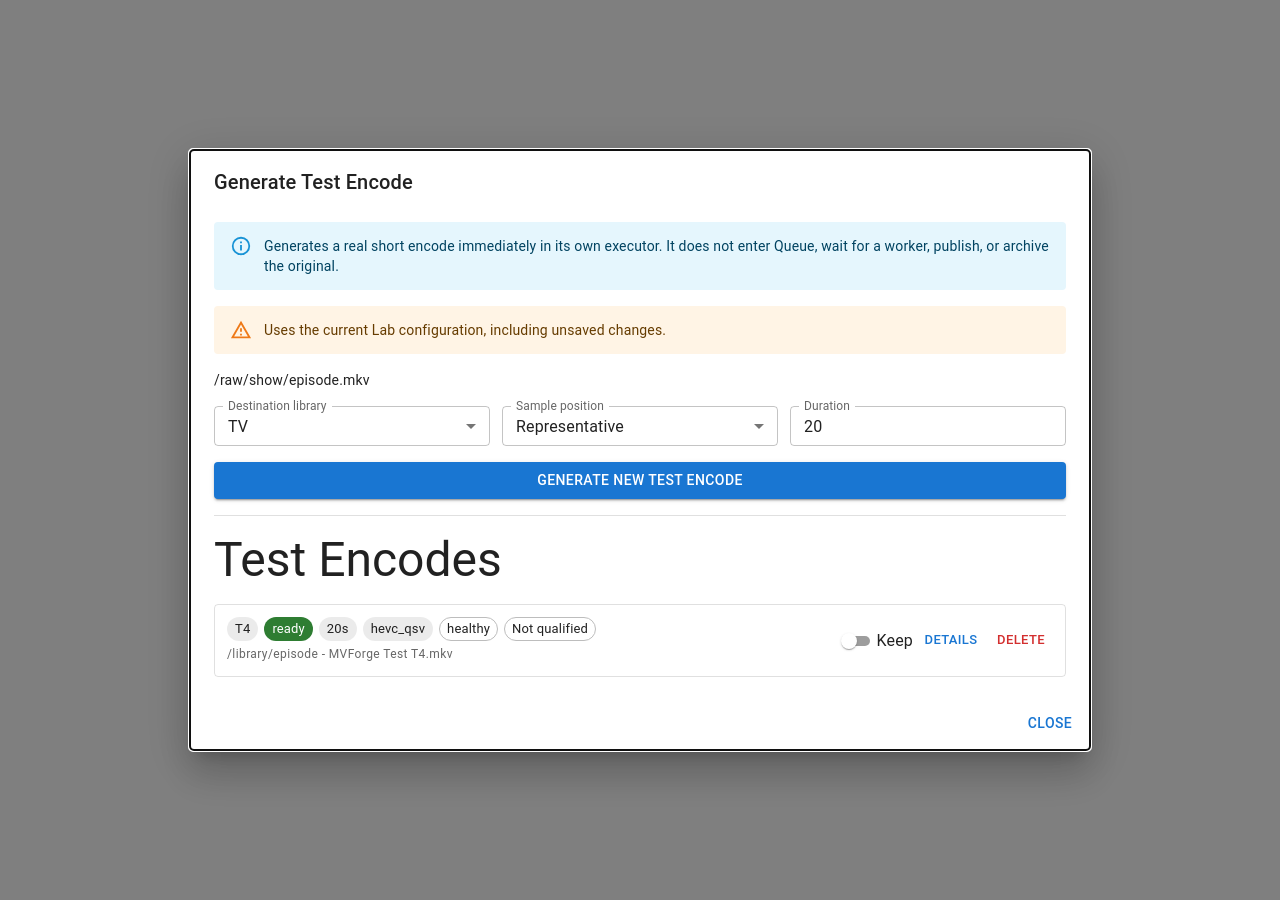
it: TestEncodeDialog › labels unsaved Lab configuration and exposes lifecycle actions for prior tests
Expected: the text "Uses the current Lab configuration, including unsaved changes" is shown, [264,322,666,338]
Expected: the text "/library/episode - MVForge Test T4.mkv" is shown, [227,647,453,661]
What coordinates should you click on to do the following:
click the button "Details"
I would click on:
 (951, 641)
Its box is [919,625,983,656].
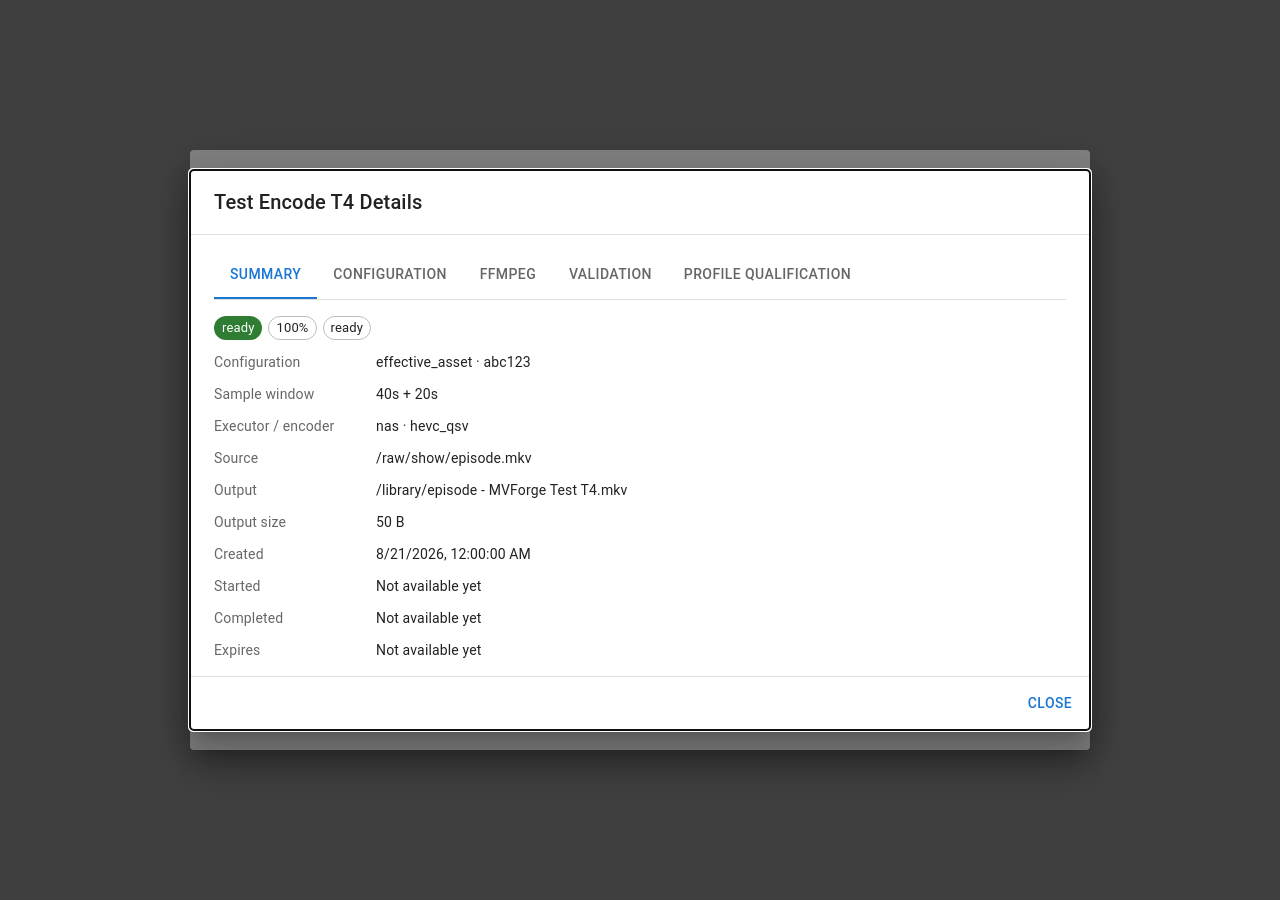
Expected: the field showing "ffmpeg -ss 40" is not shown
Expected: the panel named "summary" is shown, [214,316,628,658]
What coordinates should you click on to do the following:
click the tab "FFmpeg"
I would click on:
 (508, 275)
Its box is [463,251,553,299].
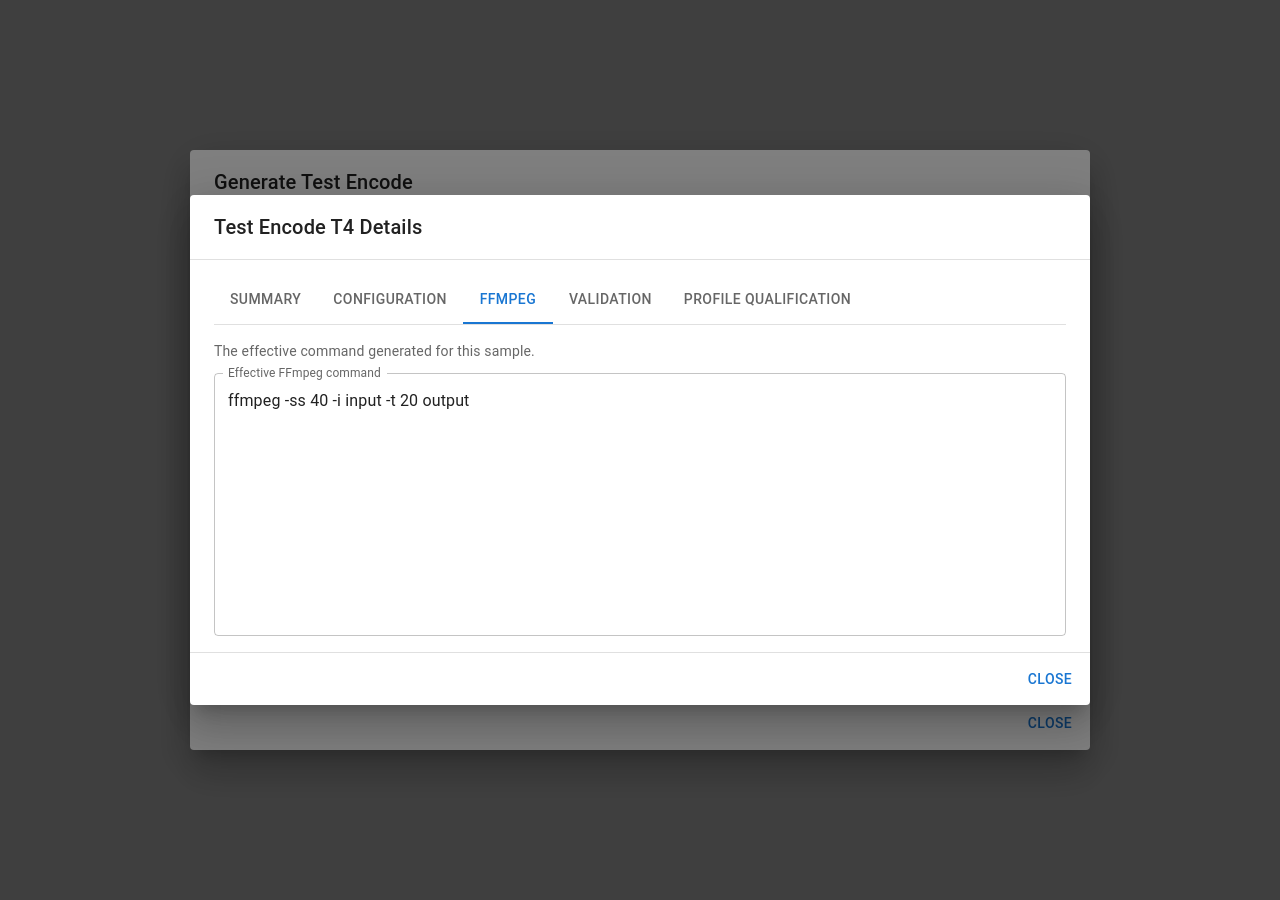
Expected: the text box showing "ffmpeg -ss 40" is shown, [228,389,1052,619]
What coordinates should you click on to do the following:
click the tab "Validation"
I would click on:
 (610, 300)
Its box is [553,276,668,324].
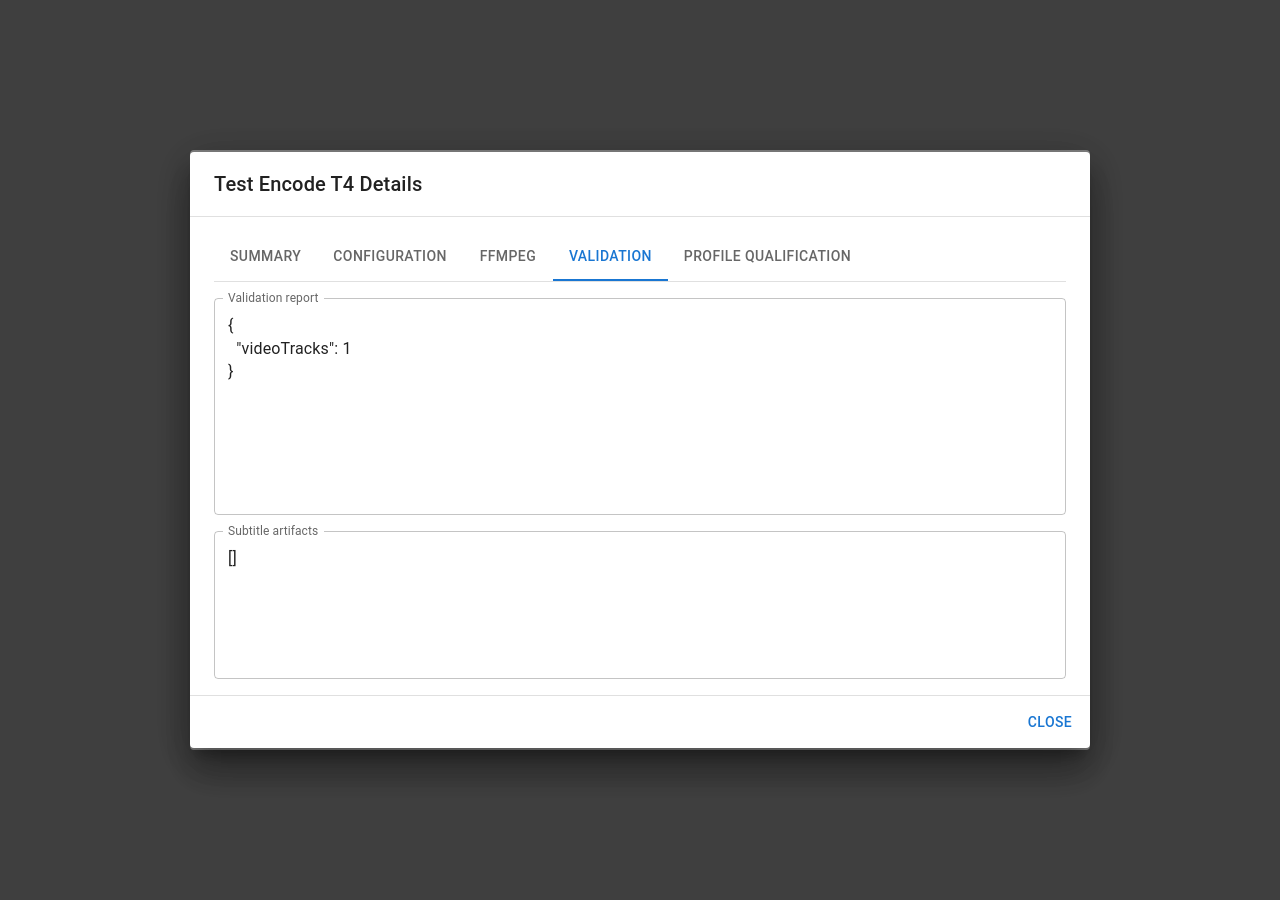
Expected: the text box showing "\"videoTracks\": 1" is shown, [228,314,1052,498]
Expected: the text box showing "[]" is shown, [228,547,1052,662]
